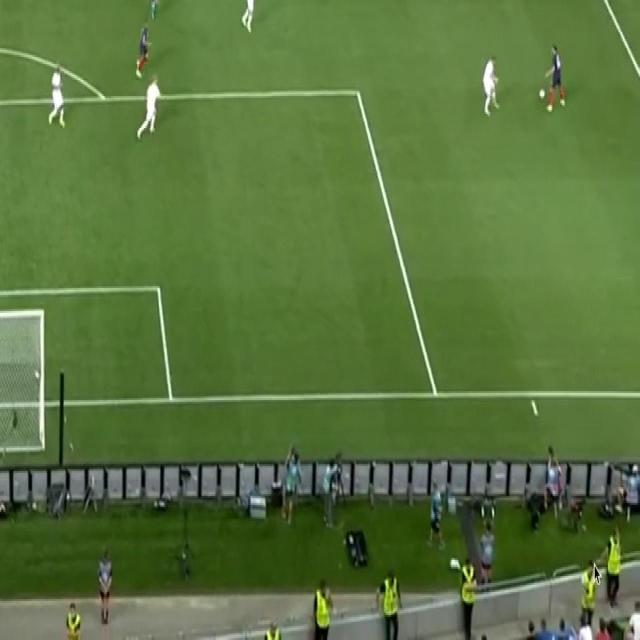ball: (538, 88, 546, 99)
player-white: (134, 70, 163, 142), (543, 40, 567, 114), (133, 14, 154, 82), (48, 60, 68, 129), (481, 52, 501, 119), (239, 0, 259, 36), (146, 0, 162, 20)
